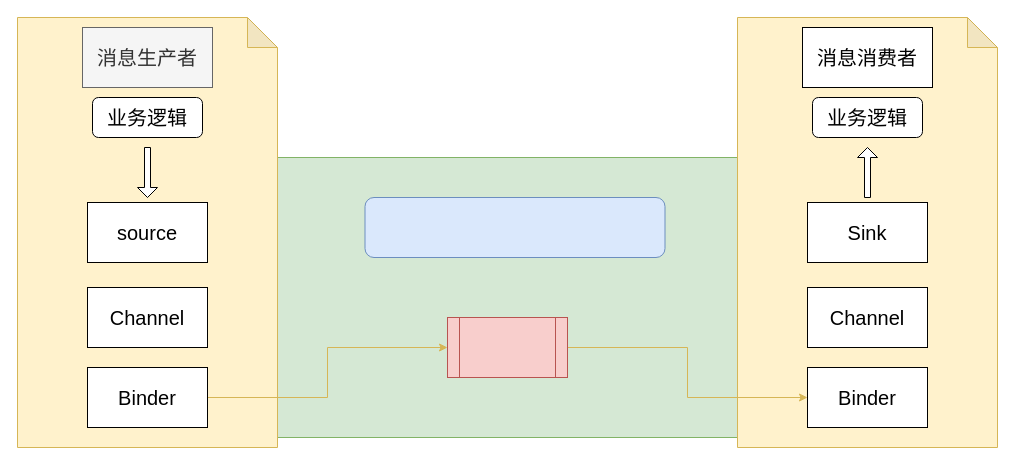
Some shapes in this 1015 by 465 pixel diagram are drawn without their labels. The shapes that lost their labels are listed below. From the top down, each one's centre as x and y in pixels, then its label:
At (514,227): "SpringCloud Stream".
At (507,347): "MQ组件".
